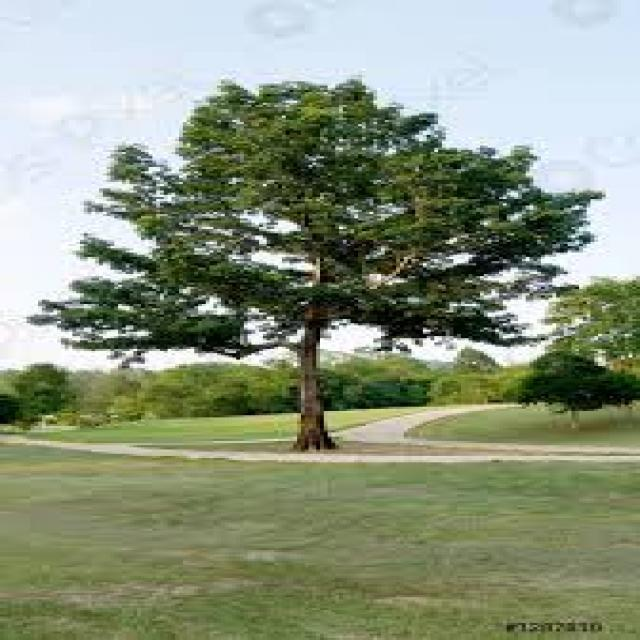Tree: (24, 85, 607, 447)
